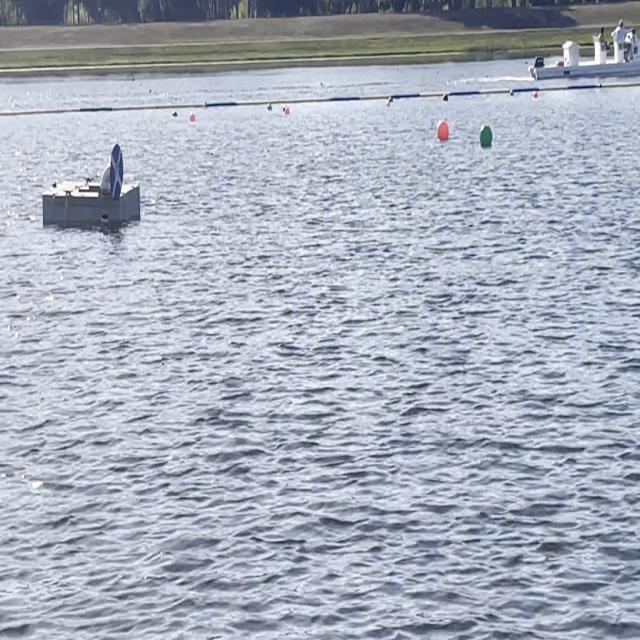buoy: (434, 116, 452, 146), (478, 120, 494, 148), (188, 112, 198, 123), (266, 102, 274, 114), (509, 88, 515, 99), (442, 94, 449, 102), (533, 91, 539, 100), (386, 100, 392, 108), (388, 95, 394, 103), (172, 112, 178, 118)
